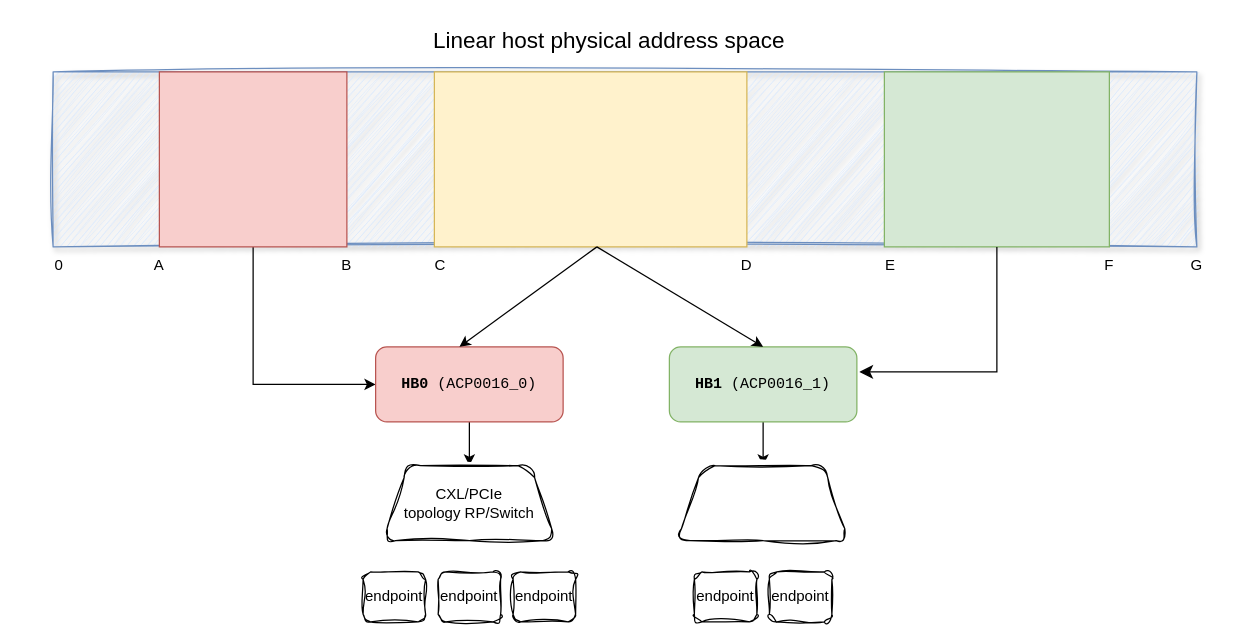
This 1255x644 diagram has some shape labels left out. The centre of each missing label's shape, as x and y in pixels:
CFMWS0 base: A window size: B-A interleave ways: 1 target: HB0: the point at 252,159
CFMWS0 base: C window size: D-C interleave ways: 2 target: HB0, HB1: the point at 590,159
CFMWS2 base: E window size: F-E interleave ways: 1 target: HB1: the point at 996,159
CXL/PCIe RP/Switch topology: the point at 762,502
